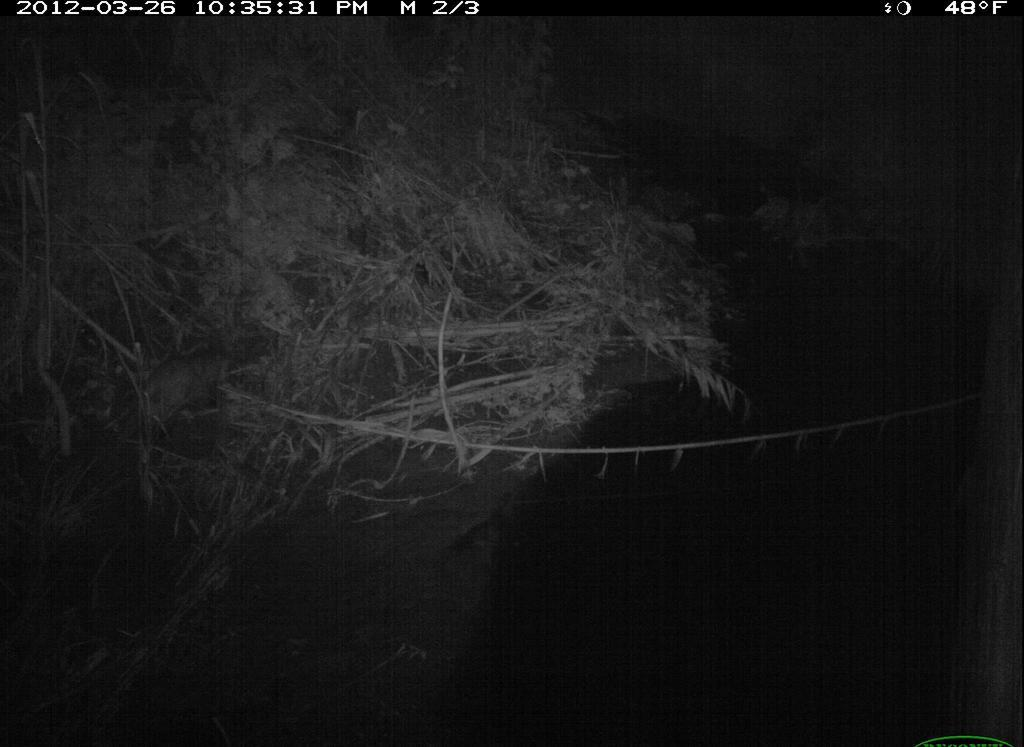opossum: (111, 327, 259, 446)
